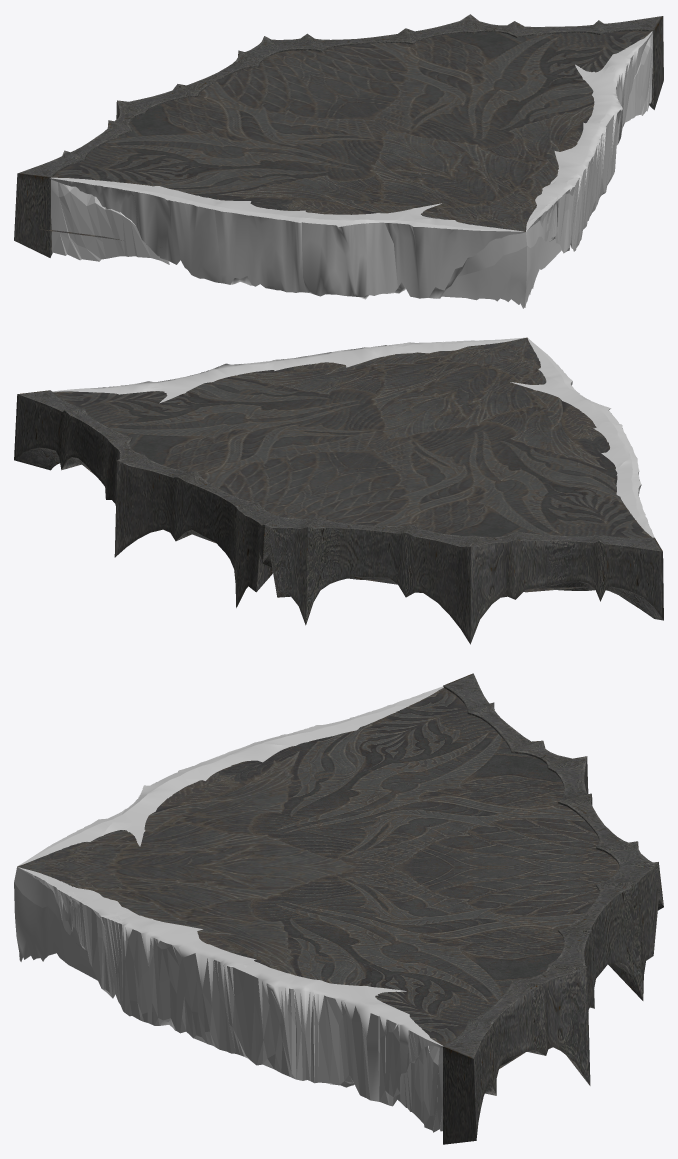
File: bg_rad_kamen_floor05d_sm.obj
The picture shows the model from 3 angles, top to bottom: view 1: azimuth 30°, elevation 25°; view 2: azimuth 150°, elevation 25°; view 3: azimuth 270°, elevation 25°; orthographic projection. The views are drawn at different scales.
Visible parts, largest first — view 1: bg_rad_kamen_floor05d_sm_0, bg_rad_kamen_floor05d_sm_2, bg_rad_kamen_floor05d_sm_1, bg_rad_kamen_floor05d_sm_3; view 2: bg_rad_kamen_floor05d_sm_0, bg_rad_kamen_floor05d_sm_3, bg_rad_kamen_floor05d_sm_1, bg_rad_kamen_floor05d_sm_2; view 3: bg_rad_kamen_floor05d_sm_0, bg_rad_kamen_floor05d_sm_2, bg_rad_kamen_floor05d_sm_1, bg_rad_kamen_floor05d_sm_3.
Part boxes in pixels (x1,y1,x2,y2): bg_rad_kamen_floor05d_sm_0: (40, 31, 651, 247); bg_rad_kamen_floor05d_sm_2: (49, 31, 652, 308); bg_rad_kamen_floor05d_sm_1: (214, 104, 594, 231); bg_rad_kamen_floor05d_sm_3: (14, 14, 663, 257); bg_rad_kamen_floor05d_sm_0: (53, 367, 651, 592); bg_rad_kamen_floor05d_sm_3: (14, 390, 663, 644); bg_rad_kamen_floor05d_sm_1: (230, 337, 615, 469); bg_rad_kamen_floor05d_sm_2: (53, 337, 654, 537); bg_rad_kamen_floor05d_sm_0: (76, 688, 619, 1068); bg_rad_kamen_floor05d_sm_2: (14, 686, 443, 1132); bg_rad_kamen_floor05d_sm_1: (17, 747, 356, 975); bg_rad_kamen_floor05d_sm_3: (443, 673, 663, 1144).
Size of the model in its own units: 9.09 by 1.3 by 6.43.
Materials: 4 (3 with a texture image).
